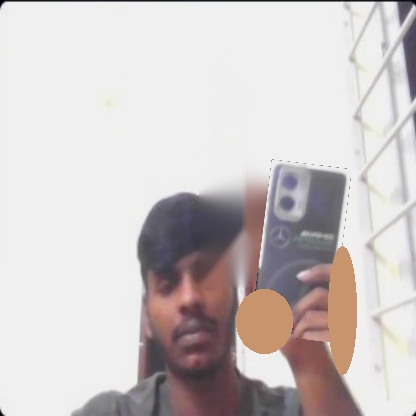cell_phone: (250, 159, 351, 342)
